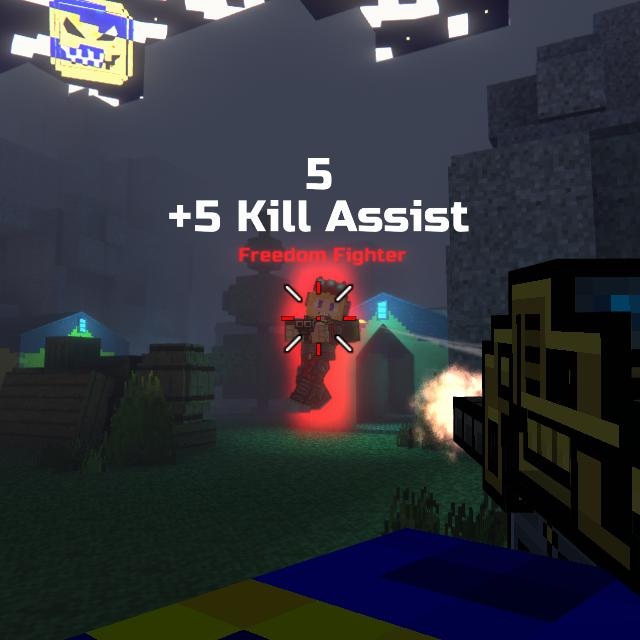Enemy: (284, 276, 361, 410)
